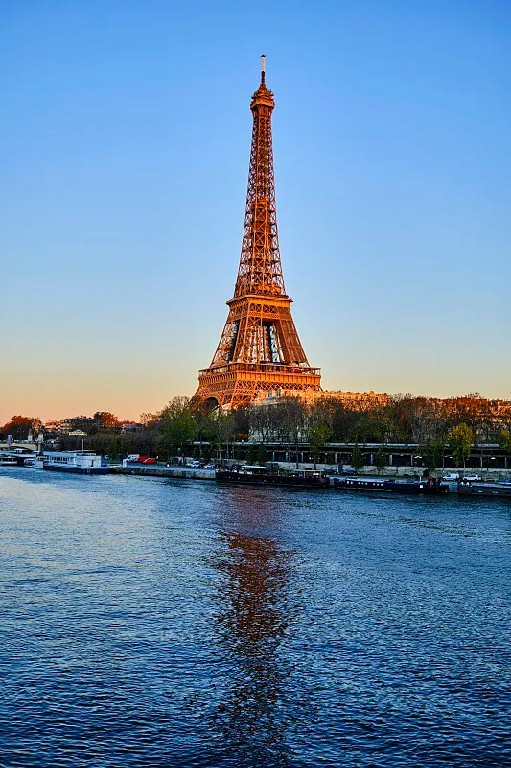Eiffel: (193, 53, 321, 410)
